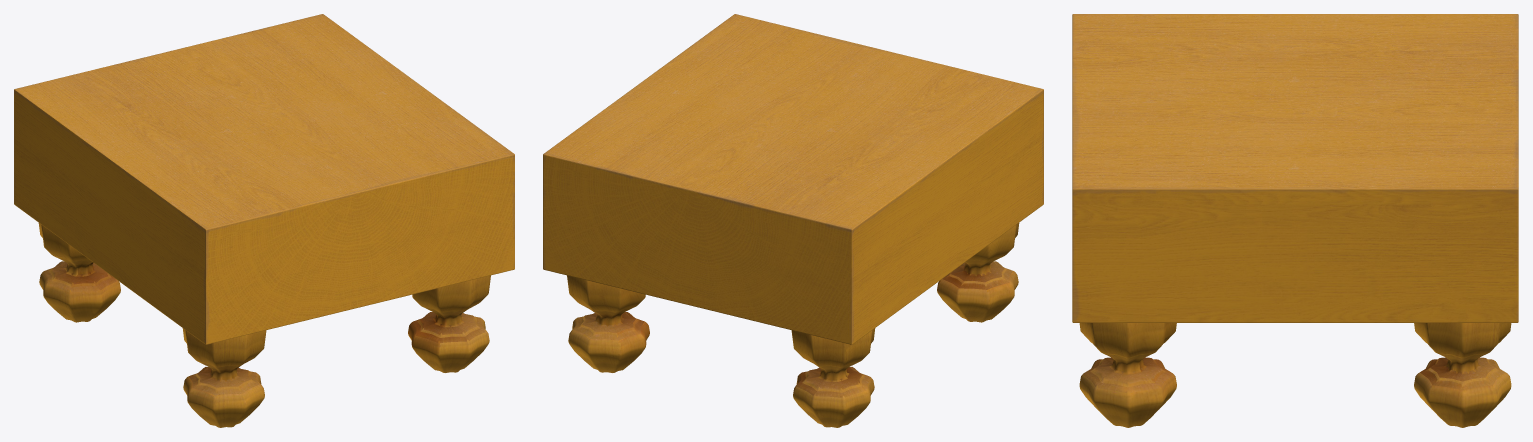
File: Goban_classic_origin_bottom.gltf
3 renders of one model, left to right at view 1: azimuth 30°, elevation 25°; view 2: azimuth 150°, elevation 25°; view 3: azimuth 270°, elevation 25°, orthographic. The views are drawn at different scales.
Parts seen in each view (by area): view 1: Cube.002; view 2: Cube.002; view 3: Cube.002.
Part boxes in pixels (x1,y1,x2,y2): Cube.002: (14,14,514,427); Cube.002: (543,14,1043,427); Cube.002: (1072,14,1518,427).
Size of the model in its own units: 0.423 by 0.2878 by 0.455.
1 material, 1 textured.
